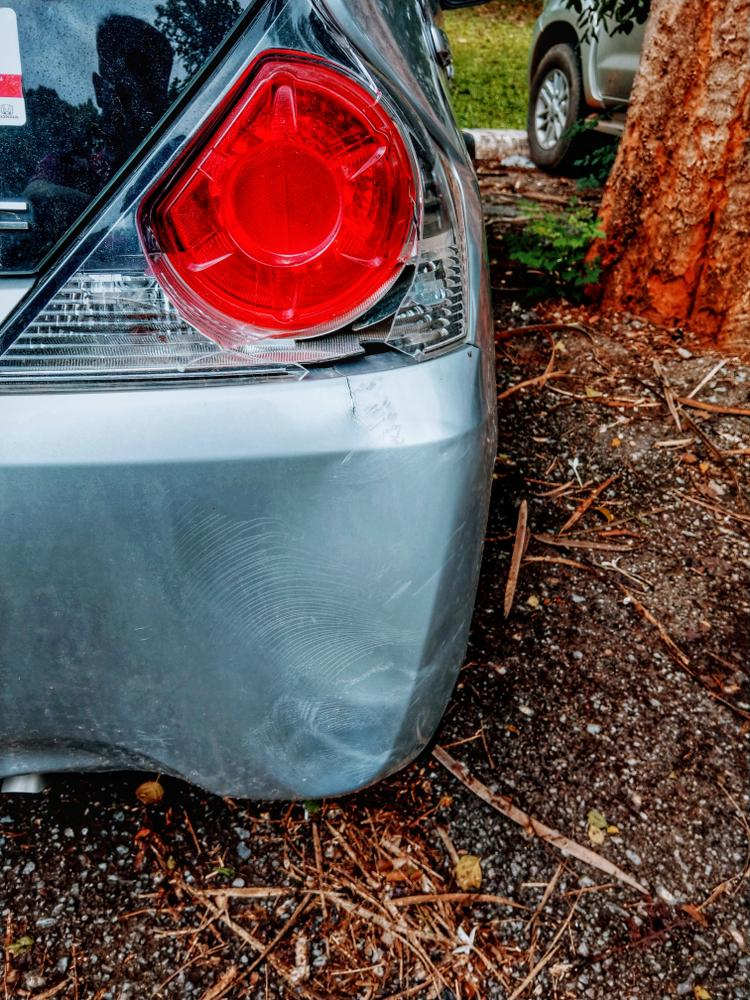dent: (173, 377, 440, 793)
lamp broken: (0, 48, 476, 382)
